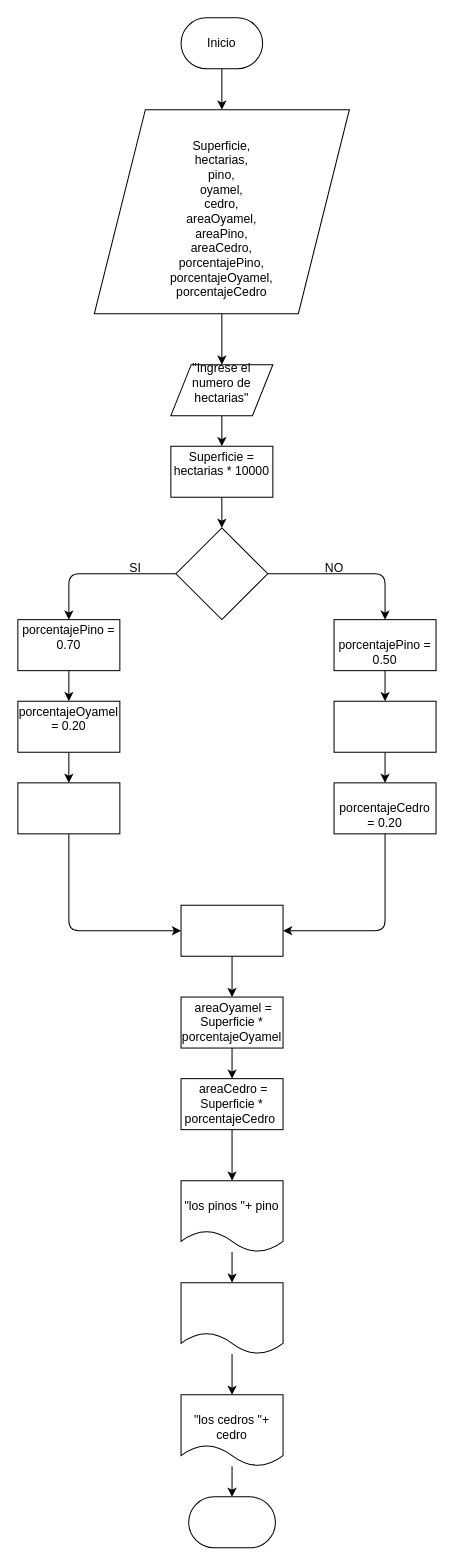
Image size: 454x1566. Some labels were removed from this diagram. The centre of each missing label's shape, as x and y in pixels:
"los oyamel "+ oyamel: point 231,1318
(Superficie > 1000000: point 221,573
areaPino = Superficie * porcentajePino: point 231,930
Fin: point 231,1522
porcentajeCedro = 0.10: point 68,808
porcentajeOyamel = 0.30: point 384,726
